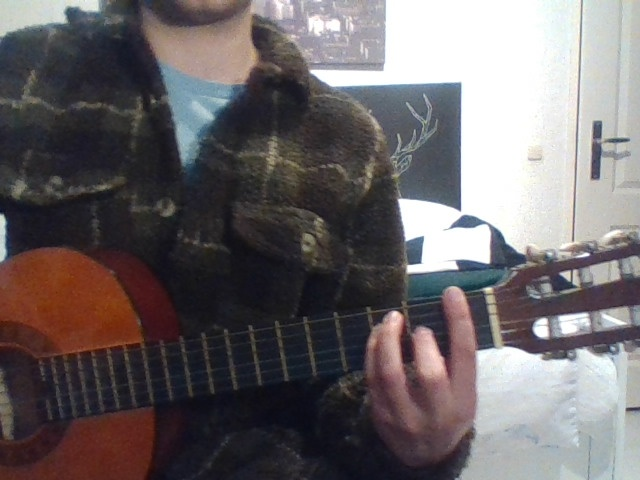F: (349, 277, 508, 478)
